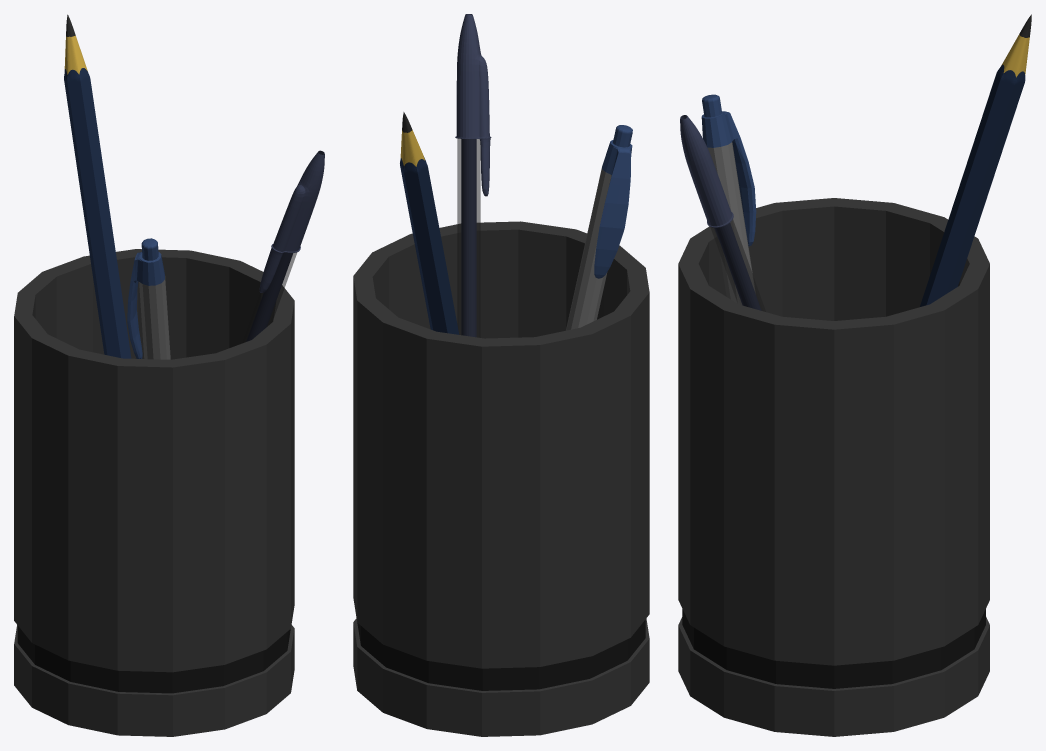
Rendered from penbox.obj.
The picture shows the model from 3 angles, left to right: view 1: azimuth 30°, elevation 25°; view 2: azimuth 150°, elevation 25°; view 3: azimuth 270°, elevation 25°; orthographic projection. The views are drawn at different scales.
Visible parts, largest first — view 1: 1_1_1, 1_1_3_3, 2_2_2, 11_11, simplepen_Tube_12_12, simplepen_Tube72_13_13, 6_6, 9_9, 2_2_4_4; view 2: 1_1_1, 2_2_2, 1_1_3_3, 6_6, 11_11, simplepen_Tube72_13_13, 9_9, simplepen_Tube_12_12, 2_2_4_4; view 3: 1_1_1, 1_1_3_3, 2_2_2, simplepen_Tube72_13_13, 11_11, simplepen_Tube_12_12, 6_6, 9_9, 2_2_4_4.
Boxes of the visible parts, left/top/right/bottom form: 1_1_1: left=14, top=249, right=294, bottom=736; 1_1_3_3: left=64, top=68, right=131, bottom=358; 2_2_2: left=17, top=625, right=290, bottom=693; 11_11: left=259, top=150, right=324, bottom=292; simplepen_Tube_12_12: left=139, top=276, right=170, bottom=359; simplepen_Tube72_13_13: left=127, top=238, right=164, bottom=358; 6_6: left=242, top=252, right=296, bottom=343; 9_9: left=246, top=252, right=293, bottom=341; 2_2_4_4: left=64, top=35, right=87, bottom=74; 1_1_1: left=353, top=221, right=649, bottom=736; 2_2_2: left=357, top=619, right=645, bottom=690; 1_1_3_3: left=400, top=157, right=459, bottom=334; 6_6: left=457, top=138, right=480, bottom=337; 11_11: left=455, top=14, right=491, bottom=196; simplepen_Tube72_13_13: left=594, top=125, right=632, bottom=278; 9_9: left=461, top=139, right=476, bottom=337; simplepen_Tube_12_12: left=566, top=168, right=611, bottom=330; 2_2_4_4: left=400, top=130, right=424, bottom=166; 1_1_1: left=678, top=198, right=989, bottom=736; 1_1_3_3: left=920, top=65, right=1025, bottom=306; 2_2_2: left=682, top=609, right=985, bottom=688; simplepen_Tube72_13_13: left=701, top=94, right=756, bottom=246; 11_11: left=680, top=115, right=733, bottom=241; simplepen_Tube_12_12: left=708, top=142, right=755, bottom=304; 6_6: left=710, top=219, right=765, bottom=311; 9_9: left=715, top=223, right=761, bottom=310; 2_2_4_4: left=1001, top=34, right=1029, bottom=77.
Size of the model in its own units: 7.29 by 17 by 8.26.
